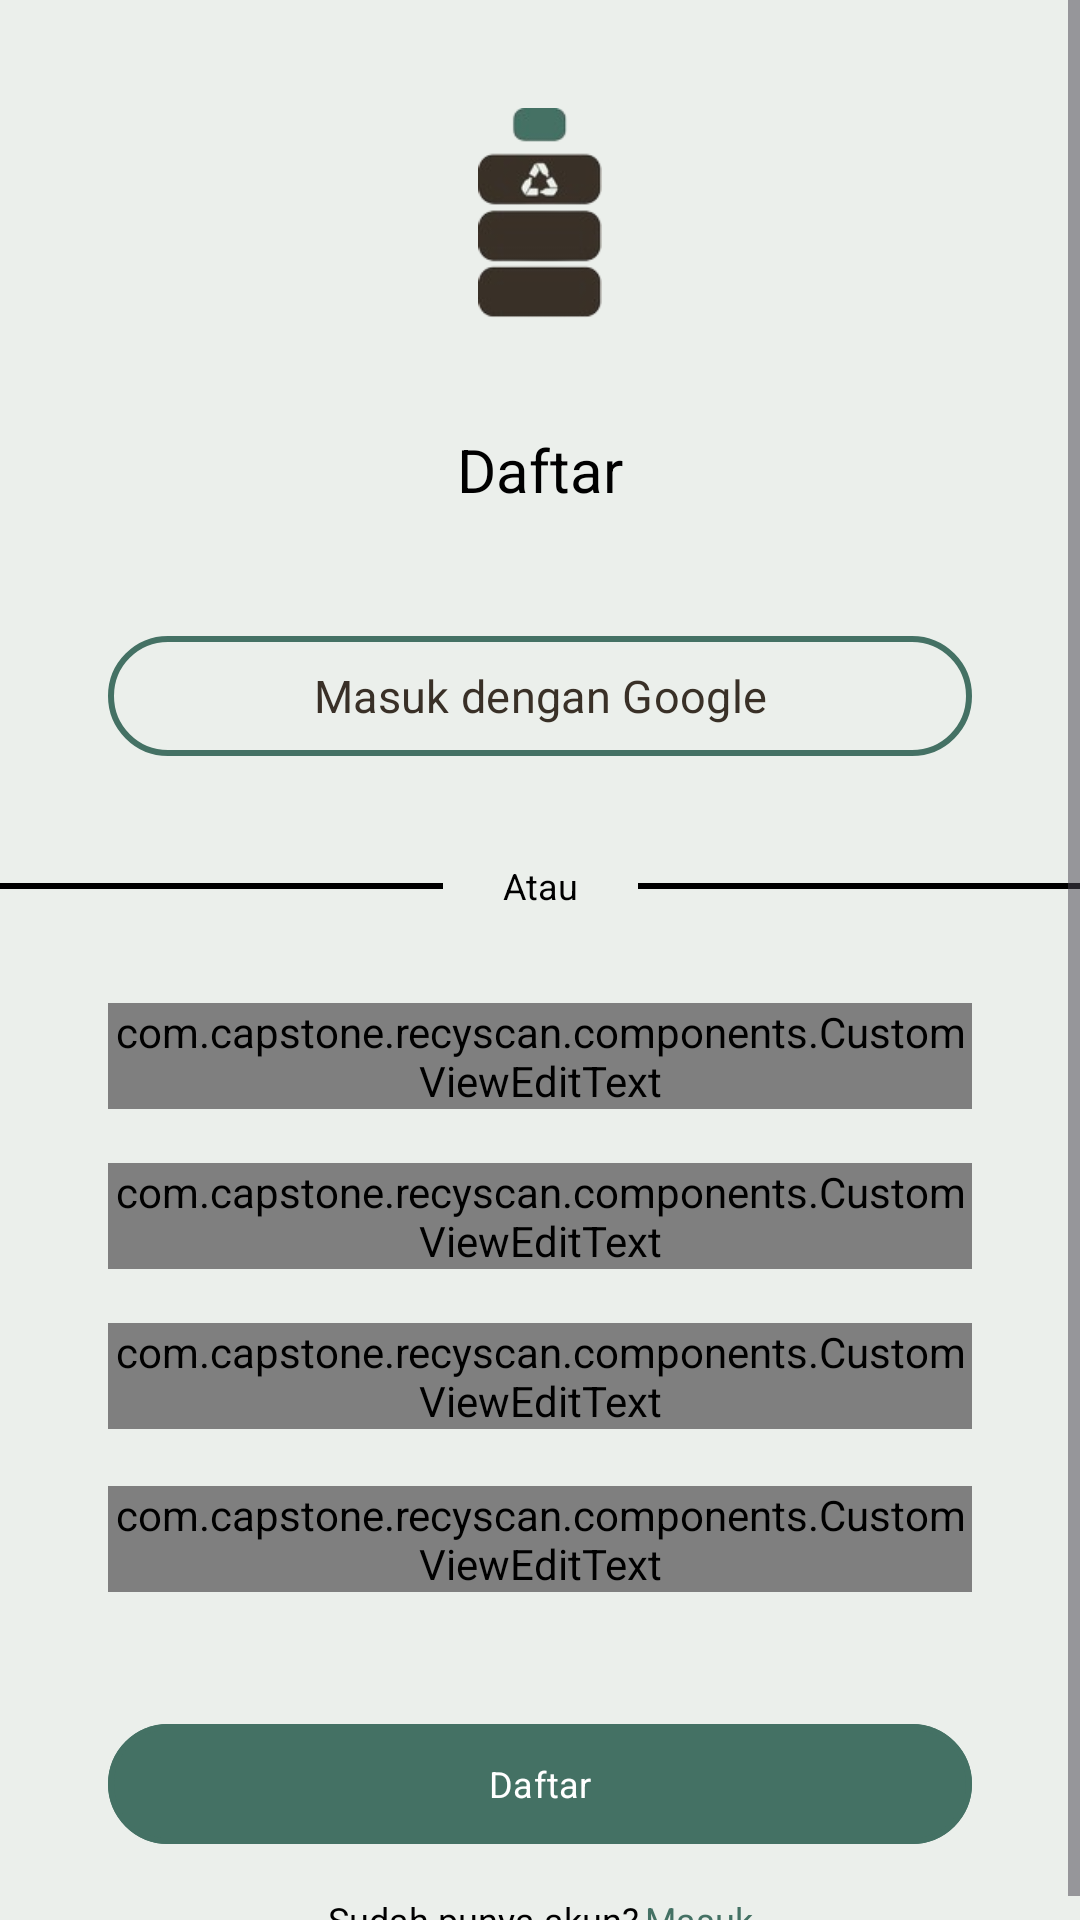

Icon bounding boxes for this 1080px x 1920px phone screenshot, format [x1,y1,x2,y2]:
recyscan: [478,108,602,317]
